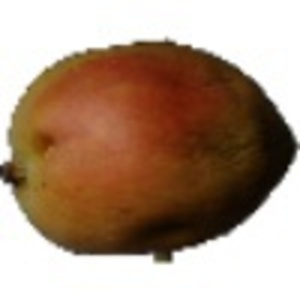mamão: (9, 34, 297, 251)
